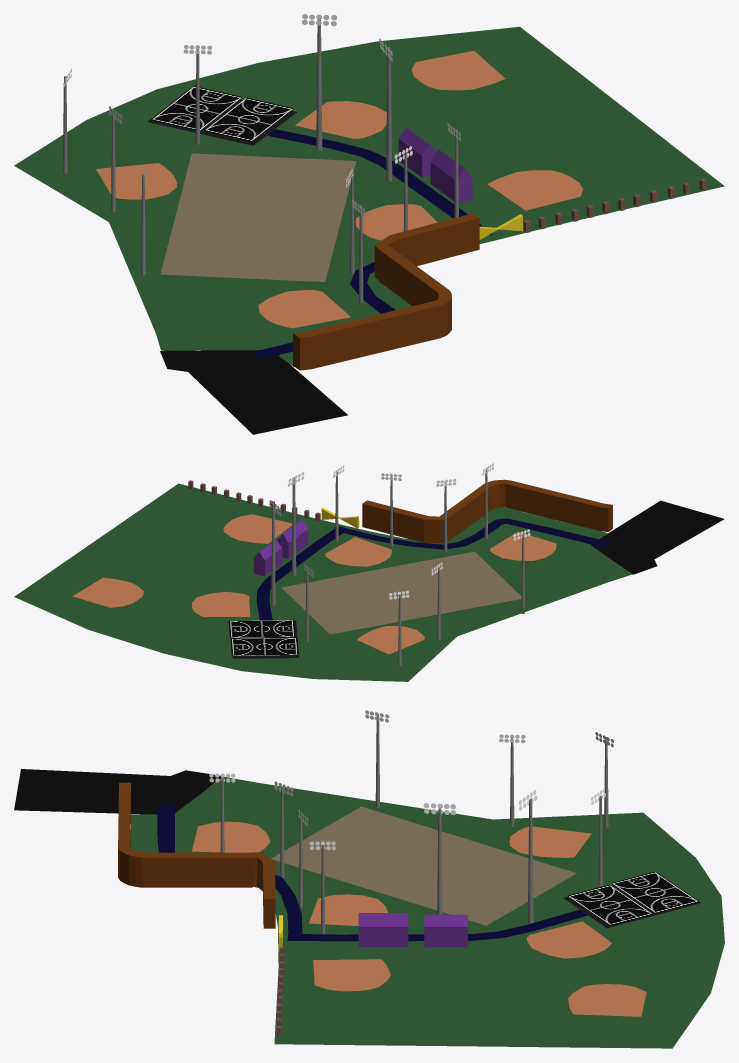
The model's file is capefield9.glb.
The picture shows the model from 3 angles, top to bottom: view 1: azimuth 30°, elevation 25°; view 2: azimuth 150°, elevation 25°; view 3: azimuth 270°, elevation 25°; orthographic projection. The views are drawn at different scales.
Visible parts, largest first — view 1: Untitled design (63), Untitled design (63).001, Untitled design (63).002; view 2: Untitled design (63), Untitled design (63).002, Untitled design (63).001; view 3: Untitled design (63), Untitled design (63).001, Untitled design (63).002.
Boxes of the visible parts, x1,y1,x2,y2 form: Untitled design (63): (14,26,724,434); Untitled design (63).001: (302,14,336,150); Untitled design (63).002: (379,38,392,181); Untitled design (63): (14,463,724,681); Untitled design (63).002: (288,471,304,575); Untitled design (63).001: (269,500,281,605); Untitled design (63): (14,710,724,1048); Untitled design (63).001: (518,790,537,923); Untitled design (63).002: (423,803,455,914).
Bounding box in the file's own units: 0.3437 × 0.0792 × 0.3691.
Materials: 14 (1 with a texture image).
